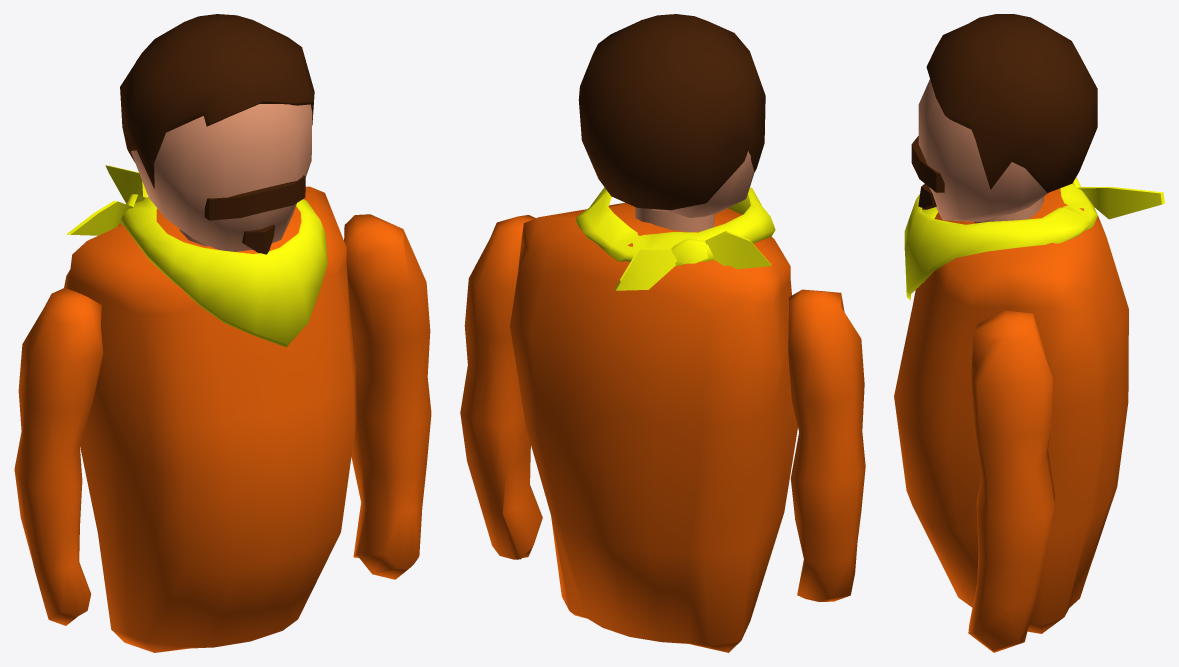
Rendered from SM_Personnage_05.FBX.
The picture shows the model from 3 angles, left to right: view 1: azimuth 30°, elevation 25°; view 2: azimuth 150°, elevation 25°; view 3: azimuth 270°, elevation 25°; orthographic projection. The views are drawn at different scales.
Visible parts, largest first — view 1: Perso Corps, Perso Bras Gauche, Perso Bras Droit, Perso Cheveux, Perso Foulard, Perso Tete, Perso Stache 2; view 2: Perso Corps, Perso Cheveux, Perso Bras Droit, Perso Bras Gauche, Perso Foulard, Perso Tete; view 3: Perso Corps, Perso Bras Gauche, Perso Cheveux, Perso Foulard, Perso Tete, Perso Stache 2.
Part boxes in pixels (left/top/right/bottom): Perso Corps: left=64, top=186, right=356, bottom=652; Perso Bras Gauche: left=344, top=214, right=431, bottom=579; Perso Bras Droit: left=14, top=288, right=103, bottom=625; Perso Cheveux: left=120, top=14, right=314, bottom=188; Perso Foulard: left=66, top=165, right=327, bottom=347; Perso Tete: left=131, top=104, right=312, bottom=251; Perso Stache 2: left=204, top=175, right=305, bottom=254; Perso Corps: left=510, top=202, right=797, bottom=652; Perso Cheveux: left=578, top=14, right=765, bottom=210; Perso Bras Droit: left=788, top=289, right=865, bottom=601; Perso Bras Gauche: left=460, top=215, right=542, bottom=559; Perso Foulard: left=576, top=187, right=775, bottom=290; Perso Tete: left=635, top=151, right=754, bottom=232; Perso Corps: left=894, top=188, right=1128, bottom=633; Perso Bras Gauche: left=968, top=310, right=1054, bottom=652; Perso Cheveux: left=926, top=14, right=1097, bottom=192; Perso Foulard: left=904, top=177, right=1164, bottom=300; Perso Tete: left=918, top=79, right=1047, bottom=223; Perso Stache 2: left=911, top=136, right=944, bottom=209.
Size of the model in its own units: 73.19 by 107 by 45.83.
